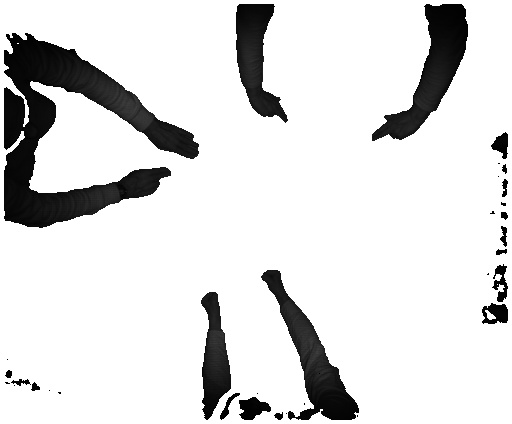fist: (256, 264, 287, 291), (200, 288, 223, 315)
hand: (153, 116, 199, 164), (124, 167, 175, 207), (368, 112, 422, 143), (249, 91, 287, 127)
